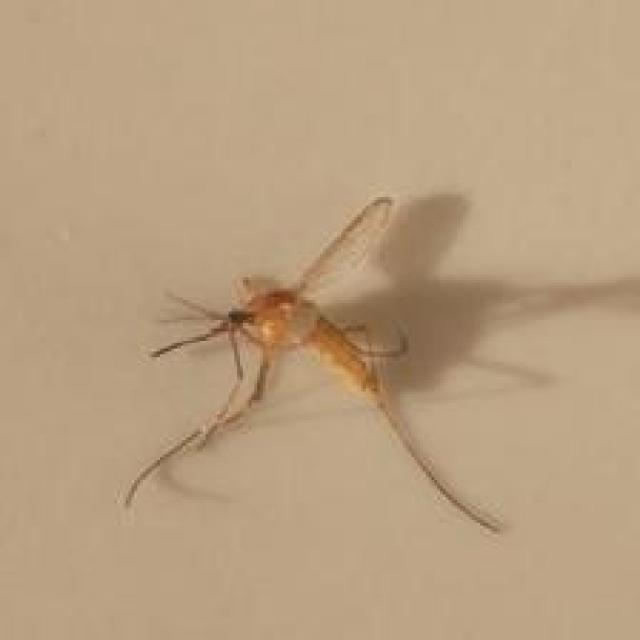Culex: (122, 193, 504, 536)
